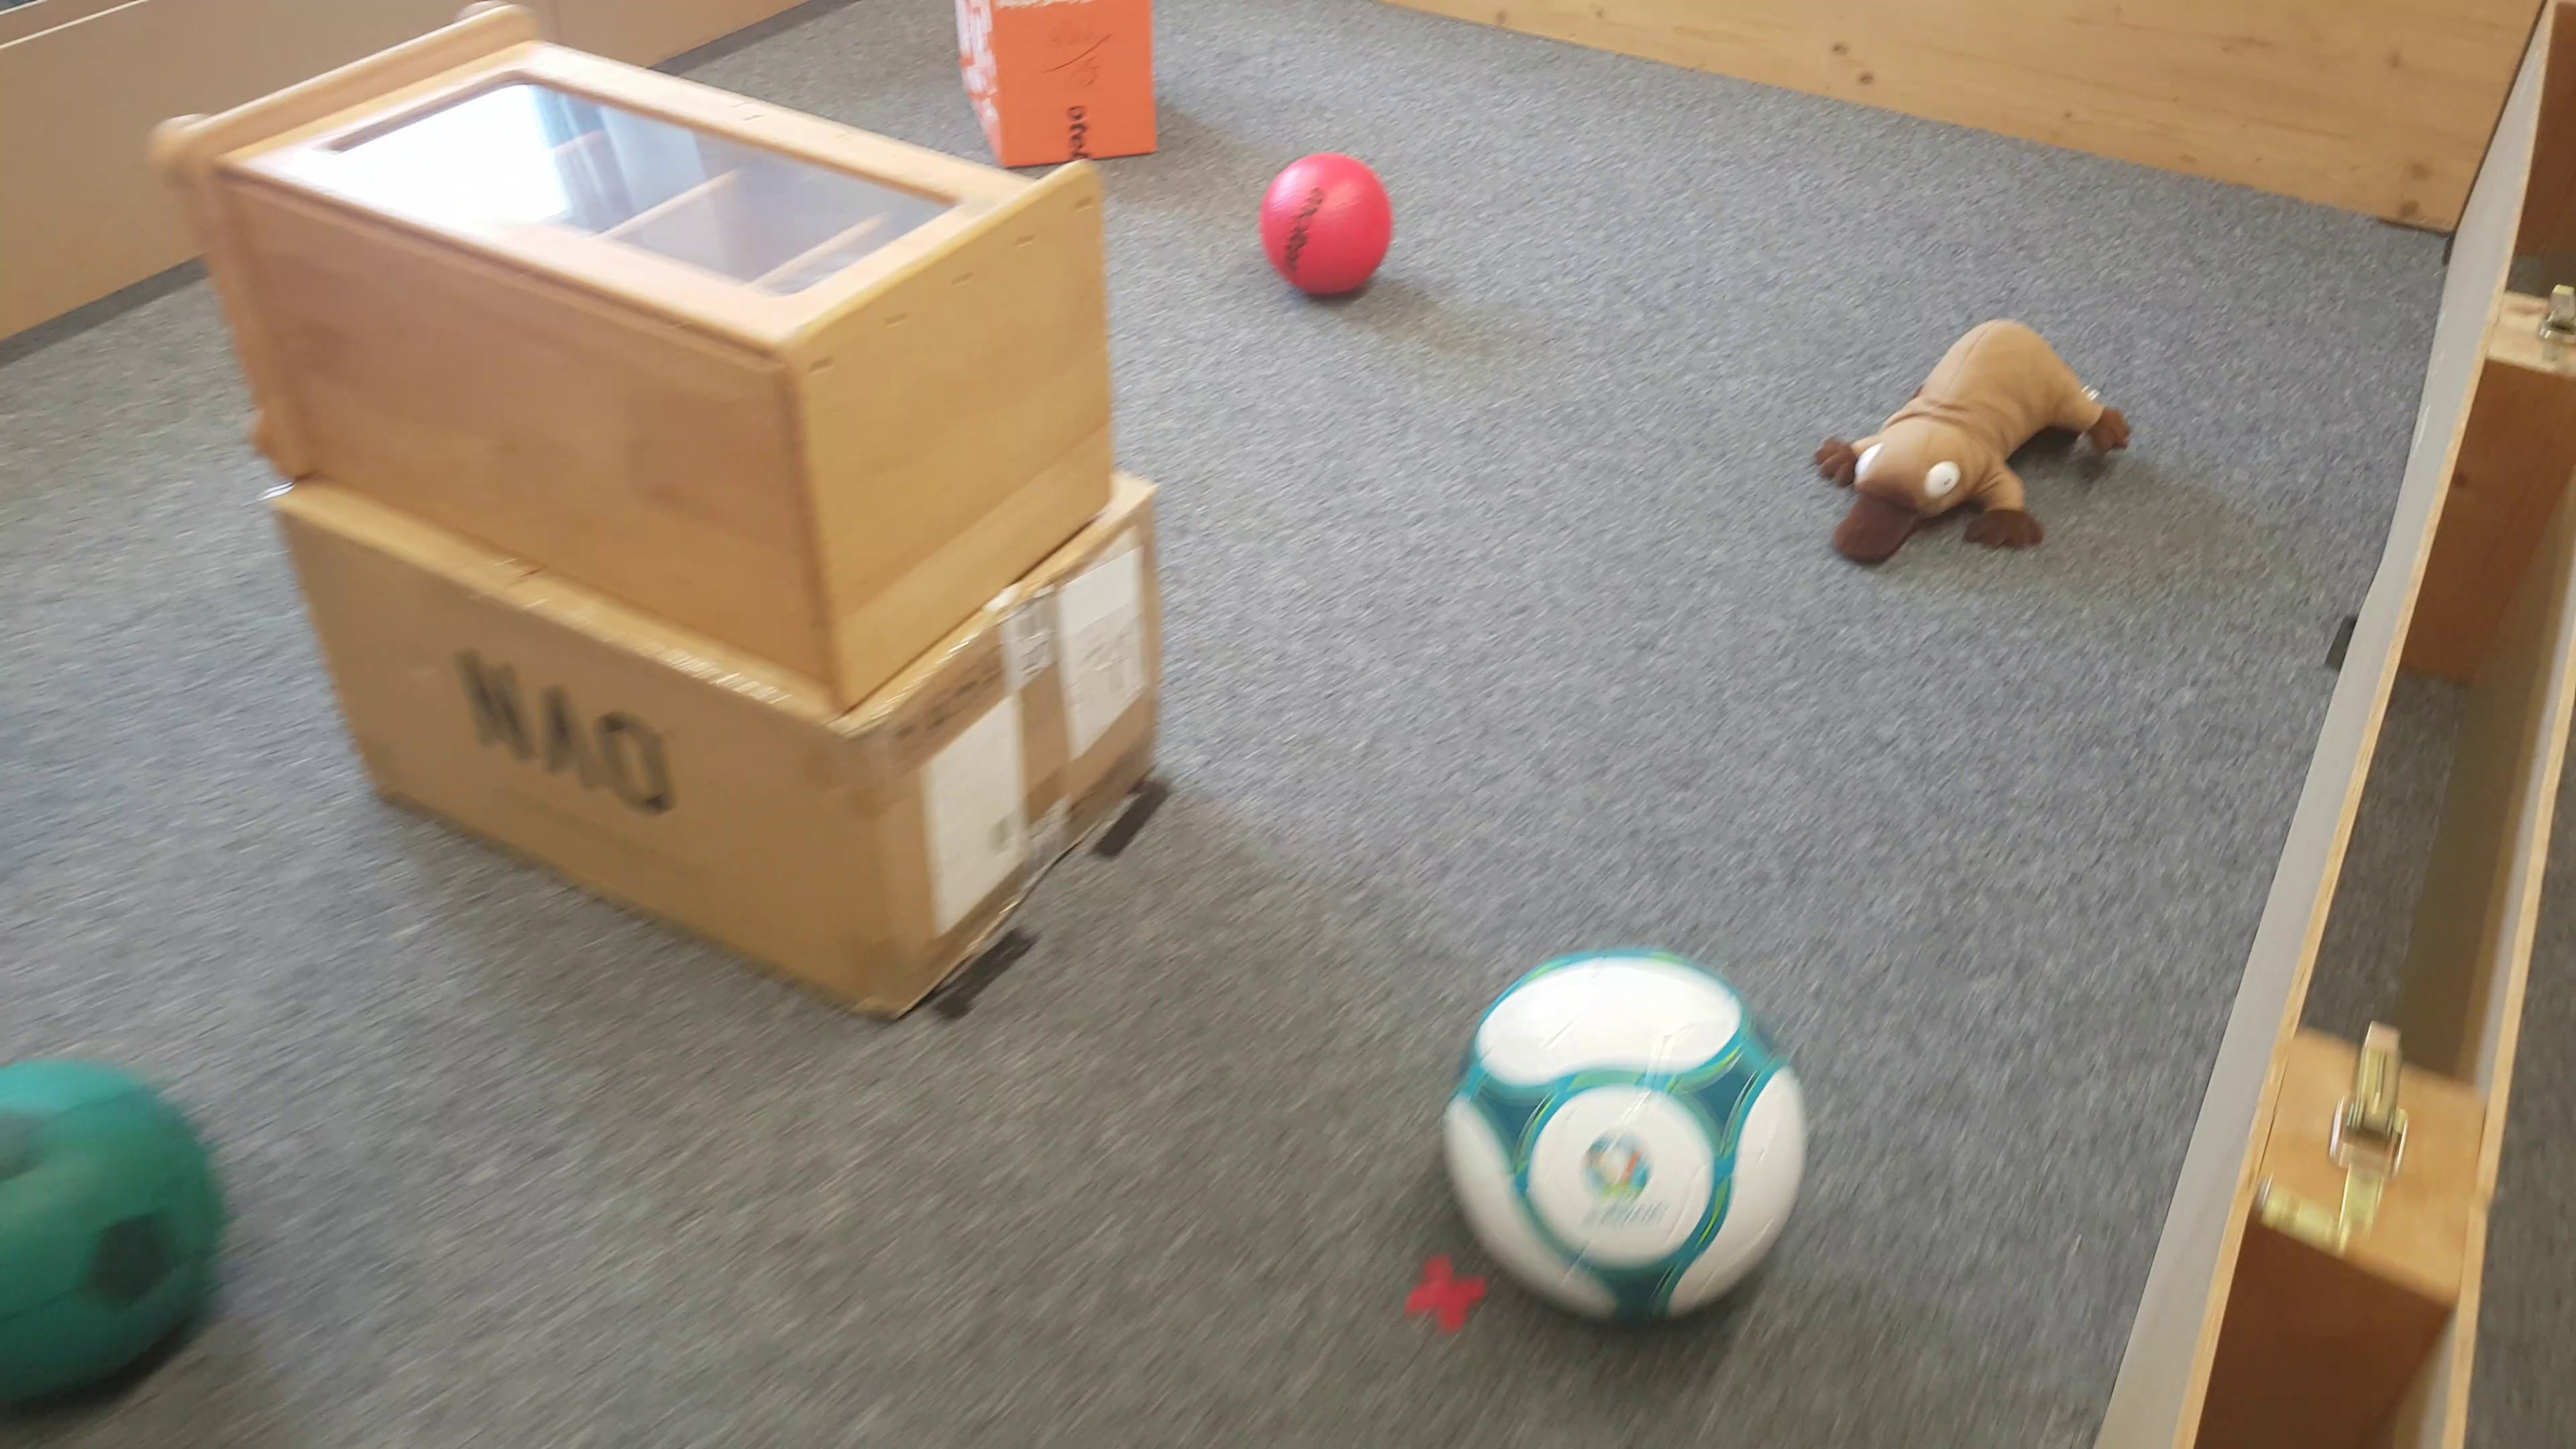grasp: (1803, 317, 2137, 570)
kick: (1438, 941, 1813, 1341), (12, 1056, 219, 1408), (1263, 150, 1391, 295)
push: (961, 12, 1159, 149)
